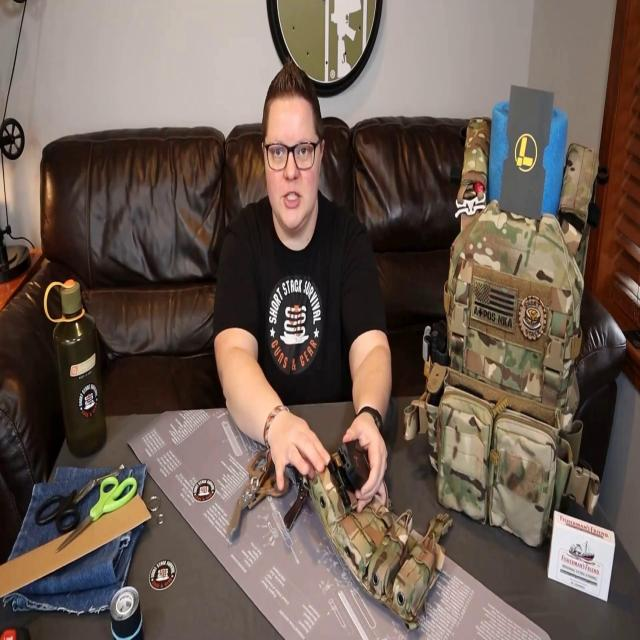scissor: (54, 475, 138, 553), (35, 469, 121, 533), (226, 449, 289, 536), (284, 463, 310, 533)
